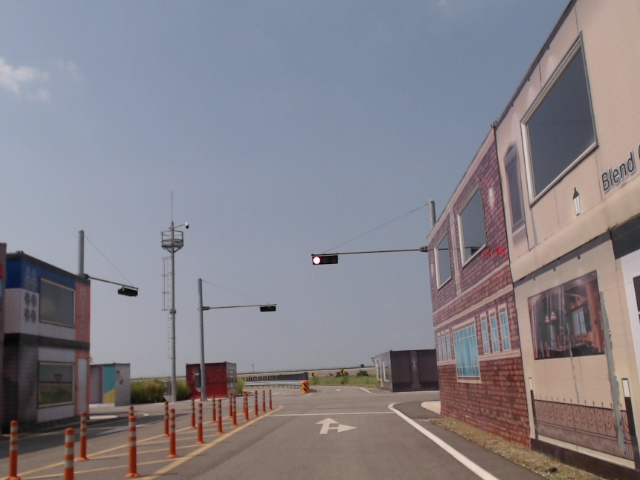red_3: (312, 253, 338, 265)
